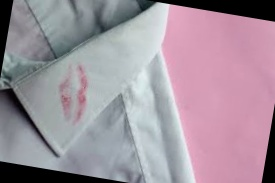lipstick: (57, 61, 97, 127)
